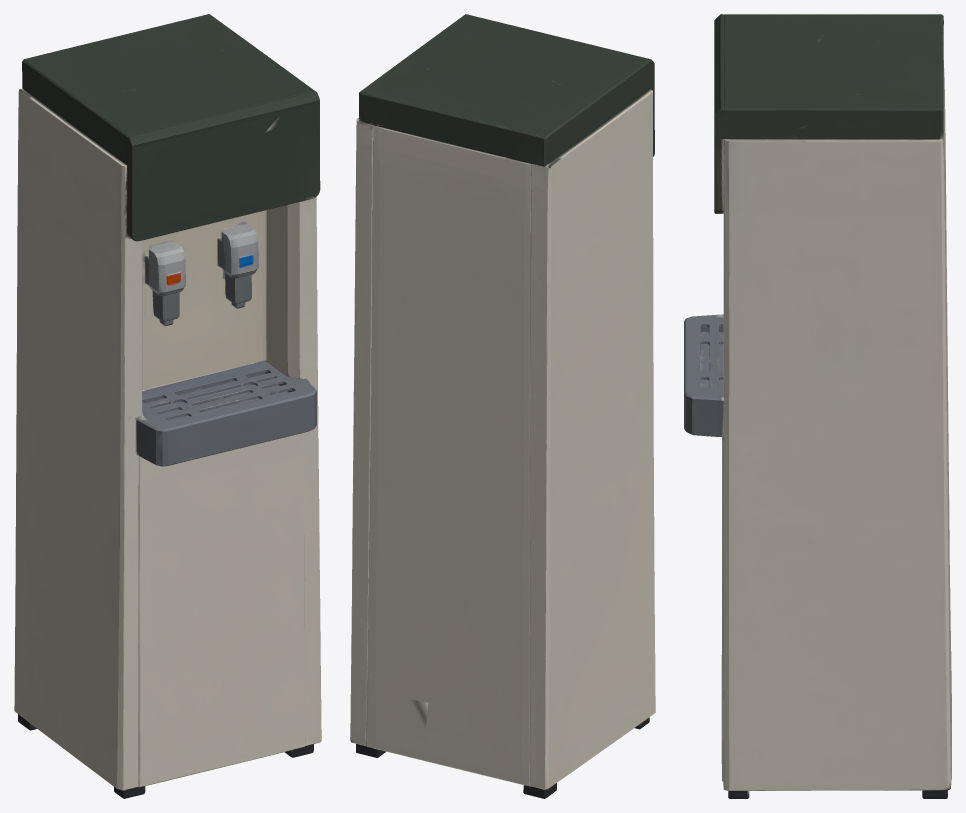
Rendered from water_cooler.glb.
The picture shows the model from 3 angles, left to right: view 1: azimuth 30°, elevation 25°; view 2: azimuth 150°, elevation 25°; view 3: azimuth 270°, elevation 25°; orthographic projection. The views are drawn at different scales.
Visible parts, largest first — view 1: water_cooler; view 2: water_cooler; view 3: water_cooler.
Boxes of the visible parts, left/top/right/bottom form: water_cooler: left=14, top=14, right=321, bottom=798; water_cooler: left=350, top=14, right=655, bottom=798; water_cooler: left=684, top=14, right=951, bottom=798.
Bounding box in the file's own units: 0.338 × 1.05 × 0.3695.
1 material, 1 textured.
